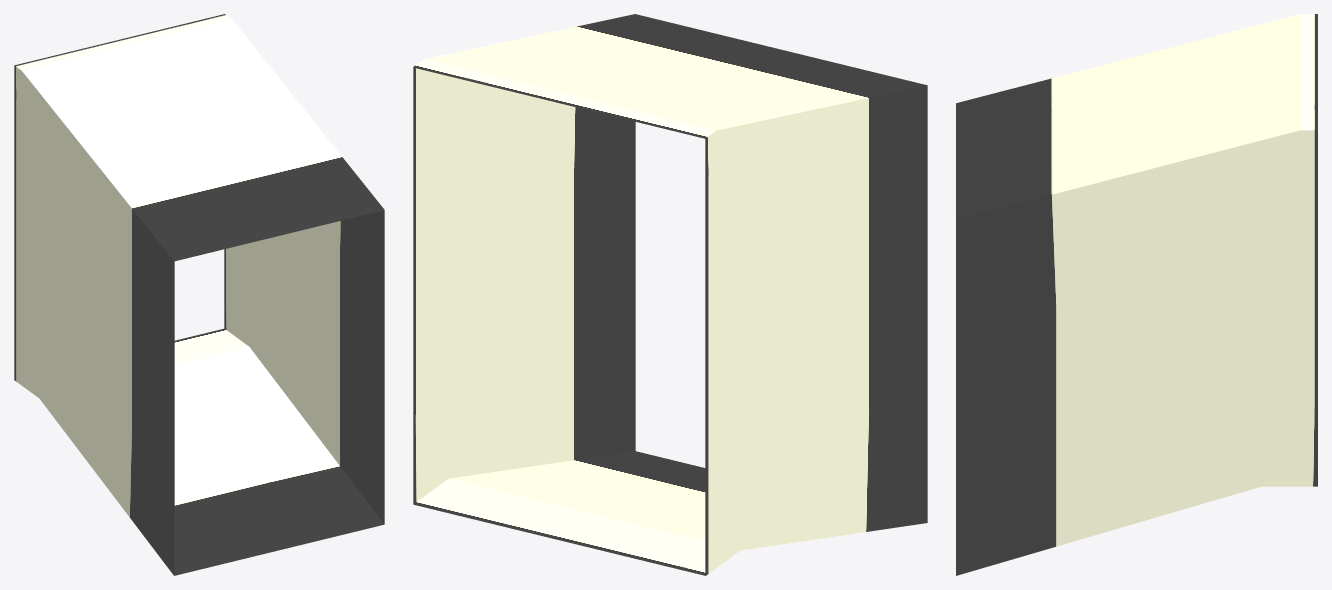
The model's file is fake_light_window_2_single.glb.
3 views of the same model, side by side, from view 1: azimuth 30°, elevation 25°; view 2: azimuth 150°, elevation 25°; view 3: azimuth 270°, elevation 25° (orthographic). The views are drawn at different scales.
Parts seen in each view (by area): view 1: fake_light_window_2_single; view 2: fake_light_window_2_single; view 3: fake_light_window_2_single.
Boxes of the visible parts, left/top/right/bottom form: fake_light_window_2_single: left=14, top=14, right=384, bottom=575; fake_light_window_2_single: left=413, top=14, right=927, bottom=575; fake_light_window_2_single: left=956, top=14, right=1317, bottom=575.
Bounding box in the file's own units: 1.12 × 2 × 1.47.
Materials: 1 (1 with a texture image).
